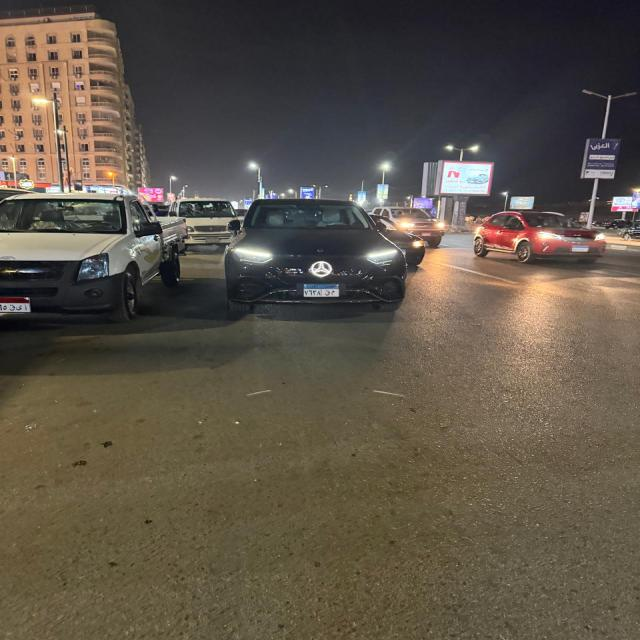car-plate: (1, 298, 30, 312), (305, 284, 338, 296), (573, 246, 588, 252), (206, 238, 218, 243), (423, 232, 431, 236)
